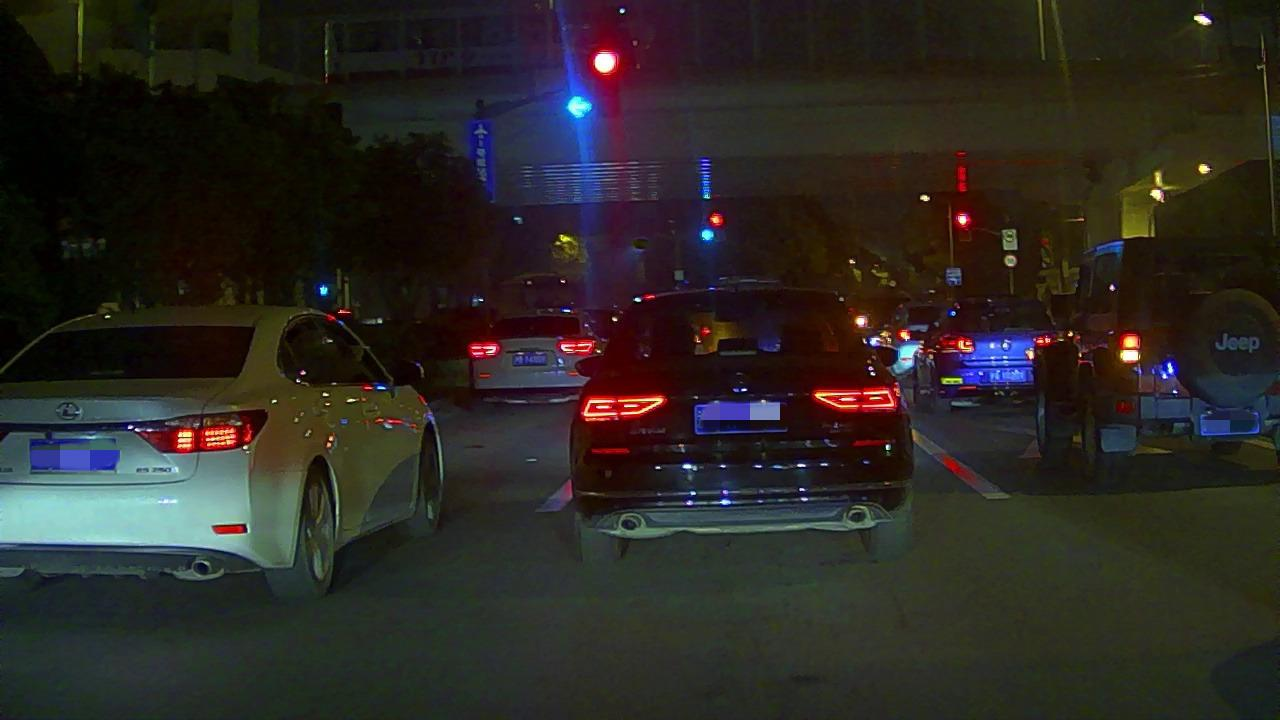traffic_light: (591, 45, 618, 115), (564, 95, 593, 120), (955, 212, 971, 229), (708, 213, 724, 227), (700, 228, 715, 241)
